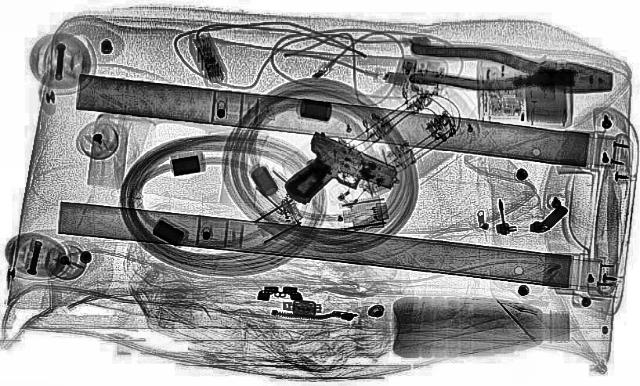Gun: (248, 129, 414, 219)
Pliers: (398, 40, 620, 101)
